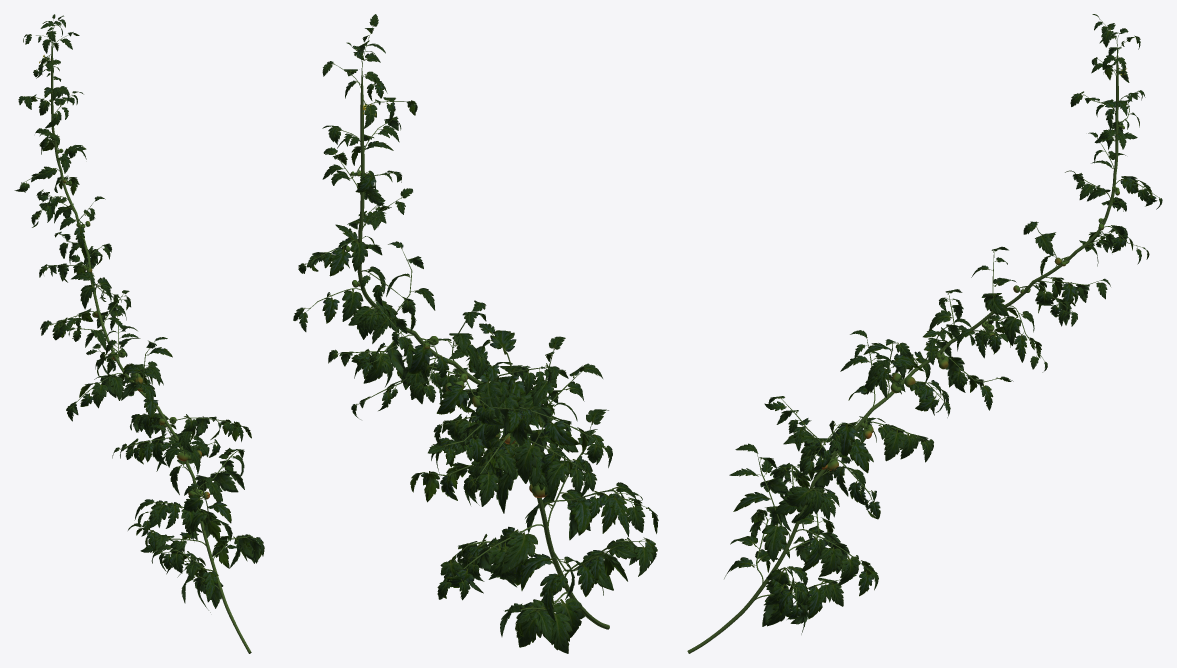
File: tomato_011.glb
3 renders of one model, left to right at view 1: azimuth 30°, elevation 25°; view 2: azimuth 150°, elevation 25°; view 3: azimuth 270°, elevation 25°, orthographic. The views are drawn at different scales.
Visible parts, largest first — view 1: tomato_011; view 2: tomato_011; view 3: tomato_011.
Boxes of the visible parts, left/top/right/bottom form: tomato_011: left=14, top=14, right=264, bottom=653; tomato_011: left=293, top=14, right=658, bottom=653; tomato_011: left=687, top=14, right=1162, bottom=653.
Bounding box in the file's own units: 0.8758 × 2.9 × 1.99.
Materials: 16 (15 with a texture image).
